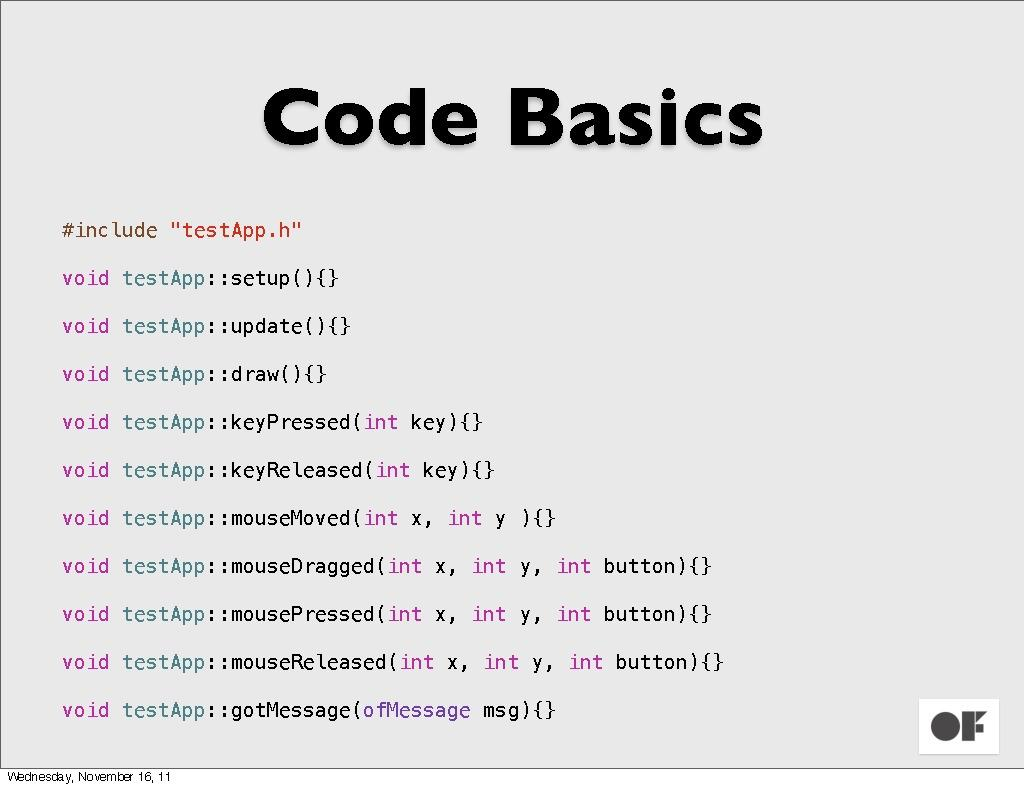paragraph: (32, 188, 848, 756)
title: (248, 68, 773, 175)
